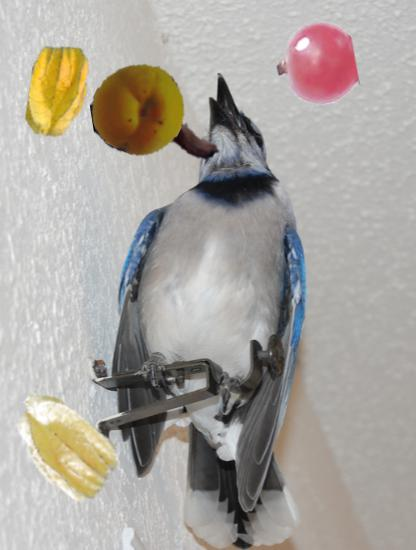Banana: (93, 58, 215, 180)
Peach: (93, 61, 187, 155)
Physalis: (3, 387, 122, 506), (10, 44, 105, 139)
Redcurrant: (275, 23, 358, 106)
